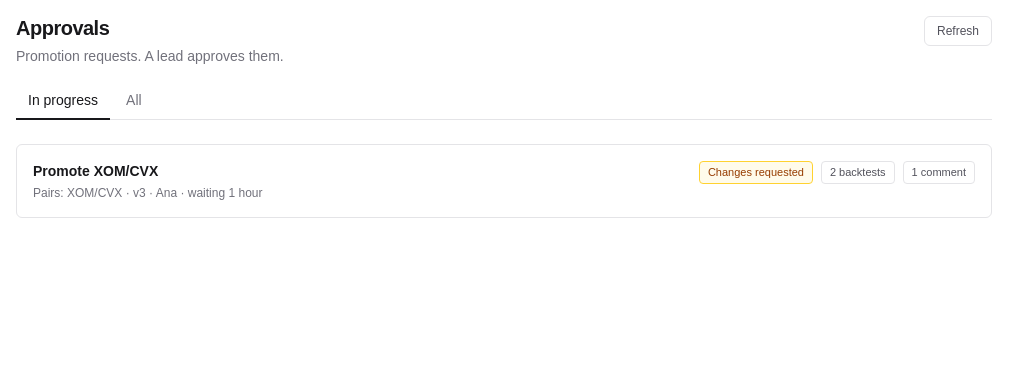
it: approvals page › the All tab lists settled proposals with how they were settled
Click the button "All" at (134, 101), box top-left (114, 82), bottom-right (154, 120)
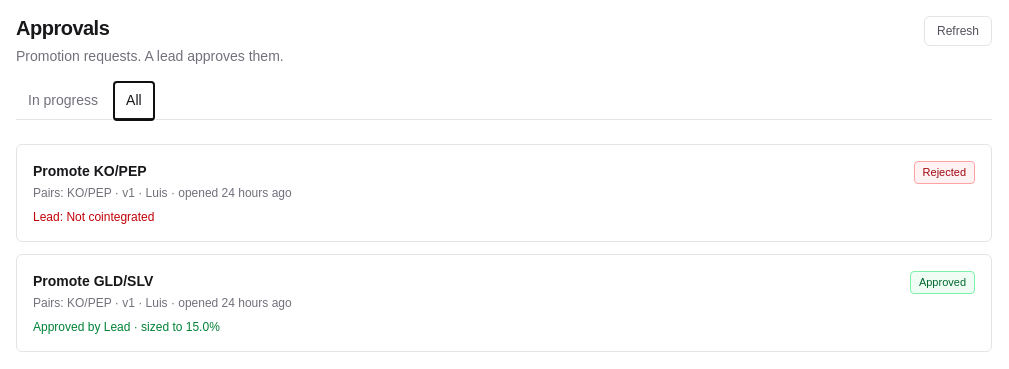
Now the heading "Promote KO/PEP" is shown, box top-left (33, 163), bottom-right (147, 179)
Now the text "rejected" is shown, box top-left (914, 161), bottom-right (975, 184)
Now the text "Lead: Not cointegrated" is shown, box top-left (33, 210), bottom-right (154, 224)
